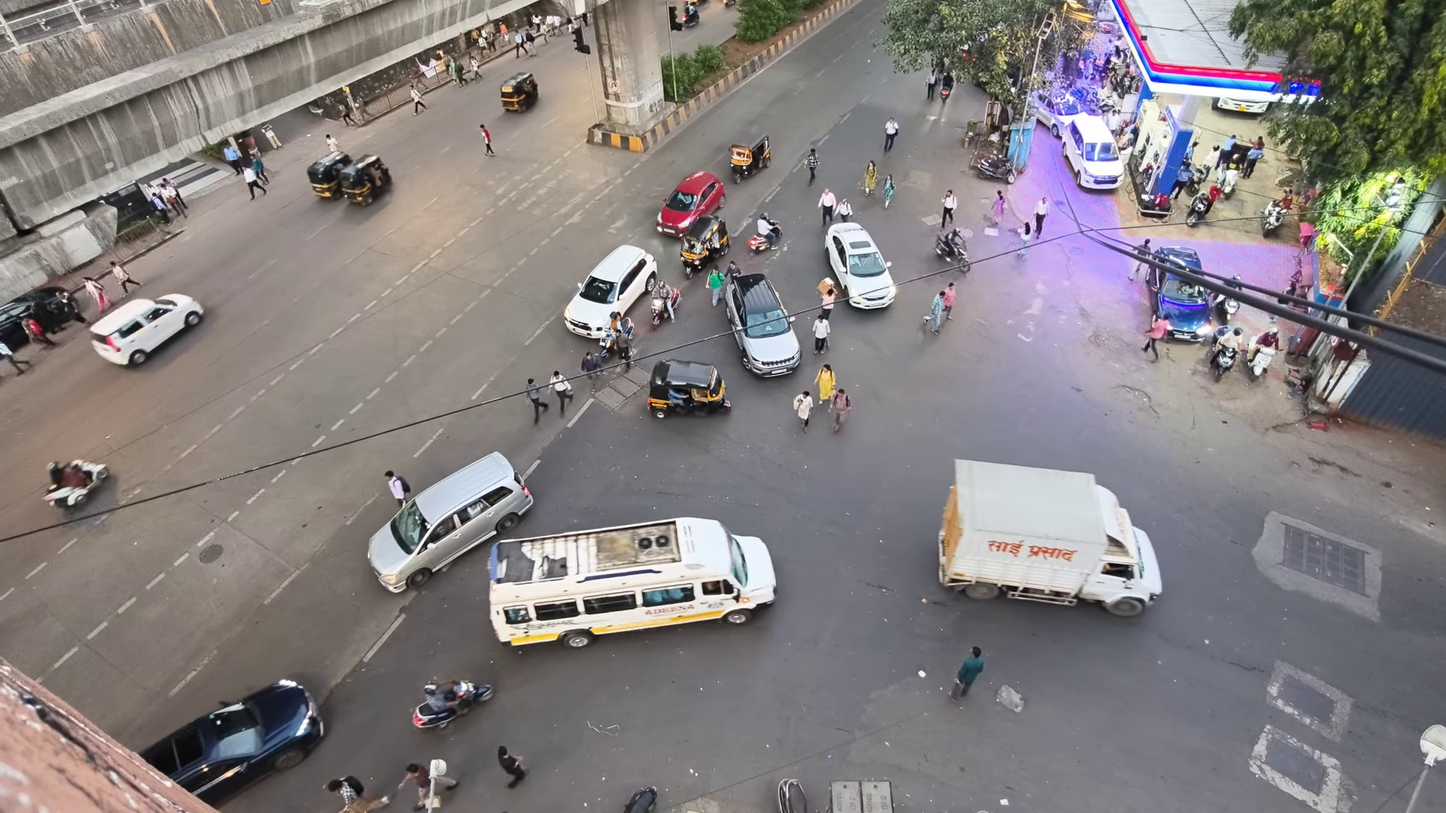driving: (489, 517, 776, 647), (938, 460, 1161, 616), (140, 681, 323, 804), (563, 246, 657, 338), (90, 294, 203, 365), (725, 273, 801, 376), (825, 223, 896, 309), (1146, 267, 1214, 341), (656, 171, 725, 236)
walking: (398, 763, 459, 809), (325, 775, 389, 812), (950, 646, 983, 700), (1142, 314, 1170, 360), (498, 745, 526, 787), (549, 370, 574, 417), (110, 260, 142, 295), (160, 178, 188, 216), (526, 378, 548, 424), (0, 342, 32, 373), (25, 317, 56, 348), (384, 470, 410, 506), (831, 388, 851, 433), (84, 278, 110, 312), (793, 391, 813, 431), (925, 291, 944, 333), (243, 166, 267, 199), (150, 187, 171, 224), (819, 278, 837, 321), (581, 352, 600, 391), (1241, 146, 1264, 178), (1171, 163, 1192, 198), (707, 266, 725, 306), (816, 364, 835, 401), (812, 314, 830, 353), (615, 330, 632, 371), (1216, 135, 1237, 166), (819, 188, 836, 226), (941, 190, 957, 230), (1034, 196, 1048, 239), (1200, 145, 1219, 175), (942, 282, 956, 321), (804, 148, 819, 184), (862, 160, 877, 196), (479, 123, 495, 156), (223, 144, 240, 174), (409, 85, 426, 114), (884, 117, 898, 151), (340, 102, 359, 126), (882, 174, 895, 209), (1017, 223, 1030, 257), (993, 190, 1006, 224), (252, 157, 268, 184), (1128, 260, 1147, 281), (836, 199, 853, 222), (926, 68, 938, 99), (513, 31, 524, 57), (468, 55, 480, 78), (325, 133, 340, 151)
